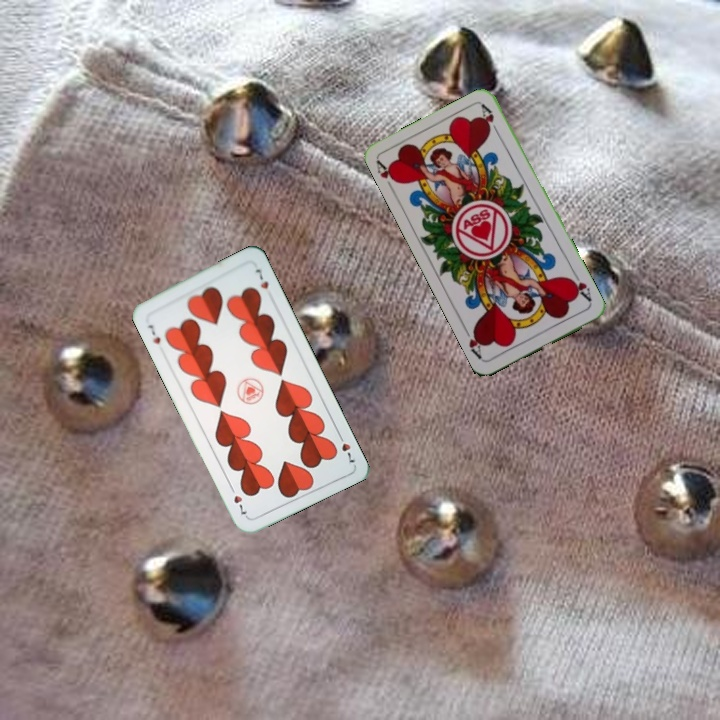H7: (333, 429, 357, 465), (143, 320, 163, 346)
HA: (372, 157, 401, 195), (566, 268, 594, 304)
